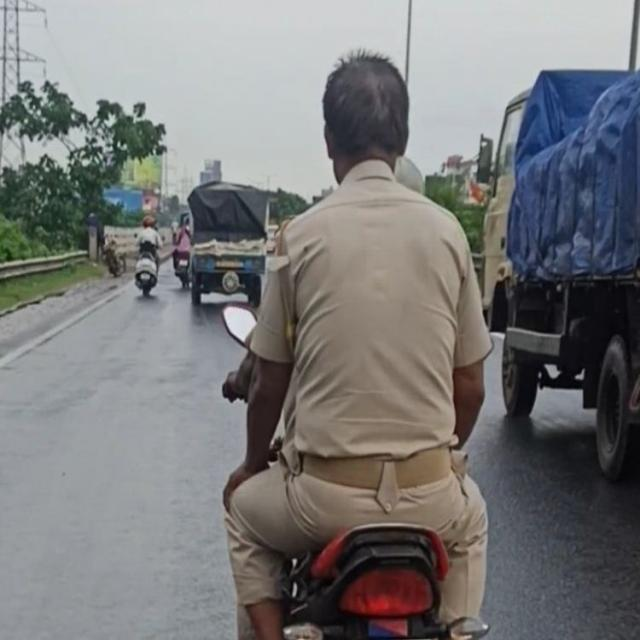without helmet: (308, 35, 428, 202)
